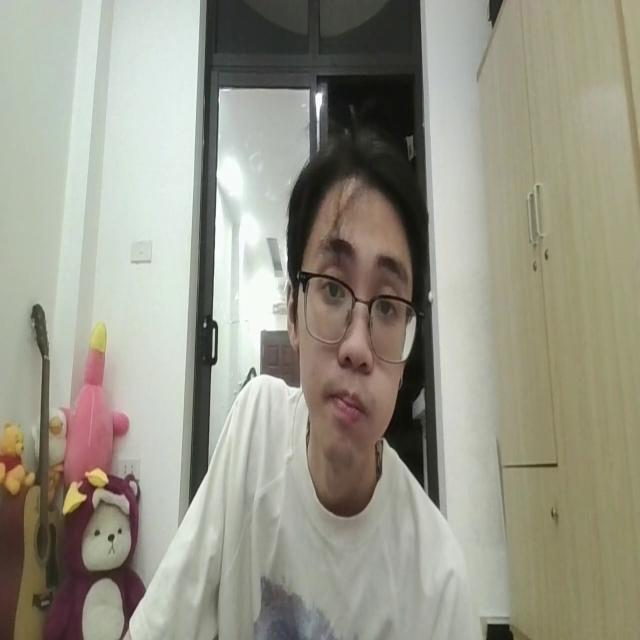student: (113, 117, 474, 640)
